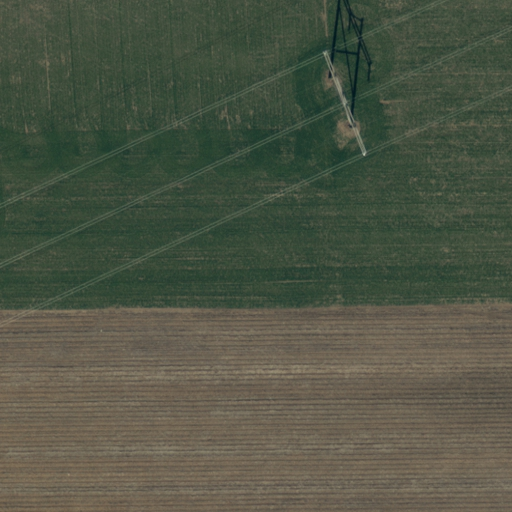TT: (311, 42, 377, 166)
